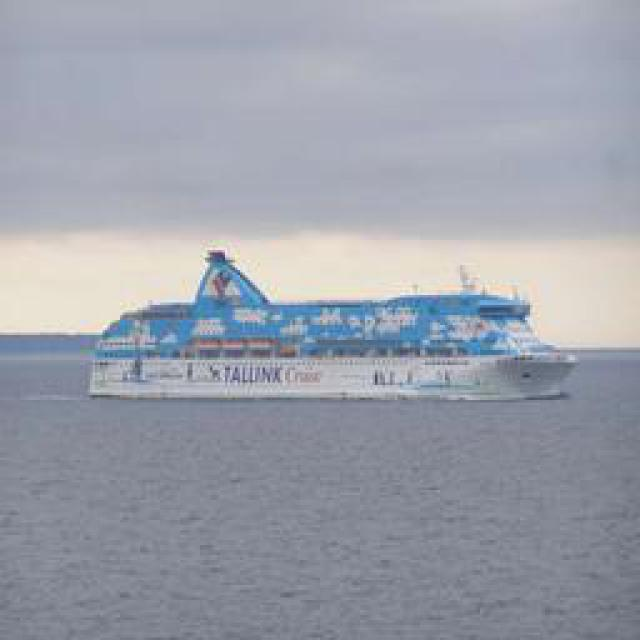Ship: (95, 245, 580, 408)
